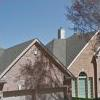Chimney: (51, 24, 69, 39)
